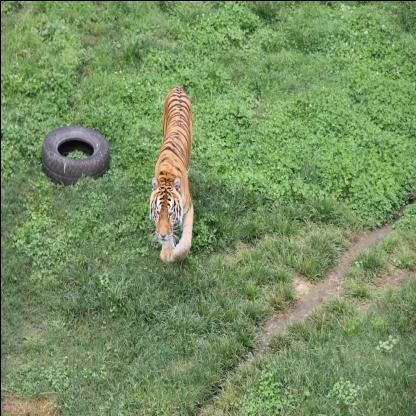tiger: (146, 178, 185, 243)
